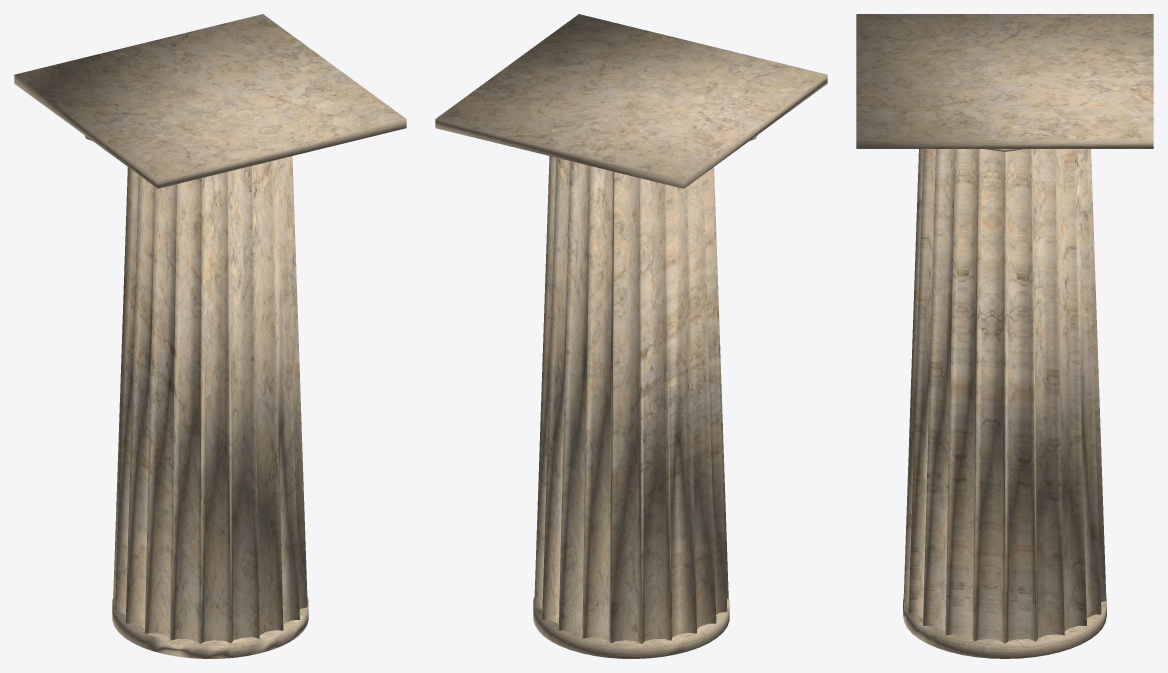
The model's file is colmn.obj.
3 renders of one model, left to right at view 1: azimuth 30°, elevation 25°; view 2: azimuth 150°, elevation 25°; view 3: azimuth 270°, elevation 25°, orthographic. The views are drawn at different scales.
Parts seen in each view (by area): view 1: column; view 2: column; view 3: column.
Part boxes in pixels (x1=…): column: x1=14, y1=14, x2=406, y2=658; column: x1=435, y1=14, x2=827, y2=658; column: x1=856, y1=14, x2=1153, y2=658.
Bounding box in the file's own units: 1 × 2 × 1.
Materials: 1 (1 with a texture image).
